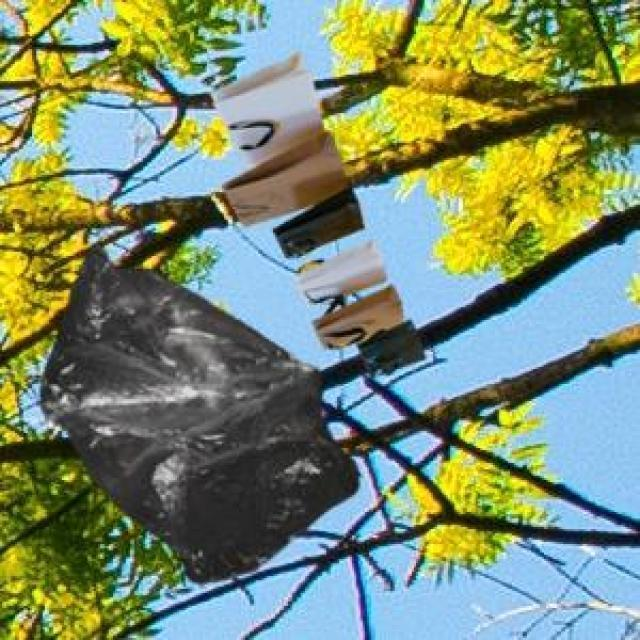paper: (207, 49, 420, 373)
